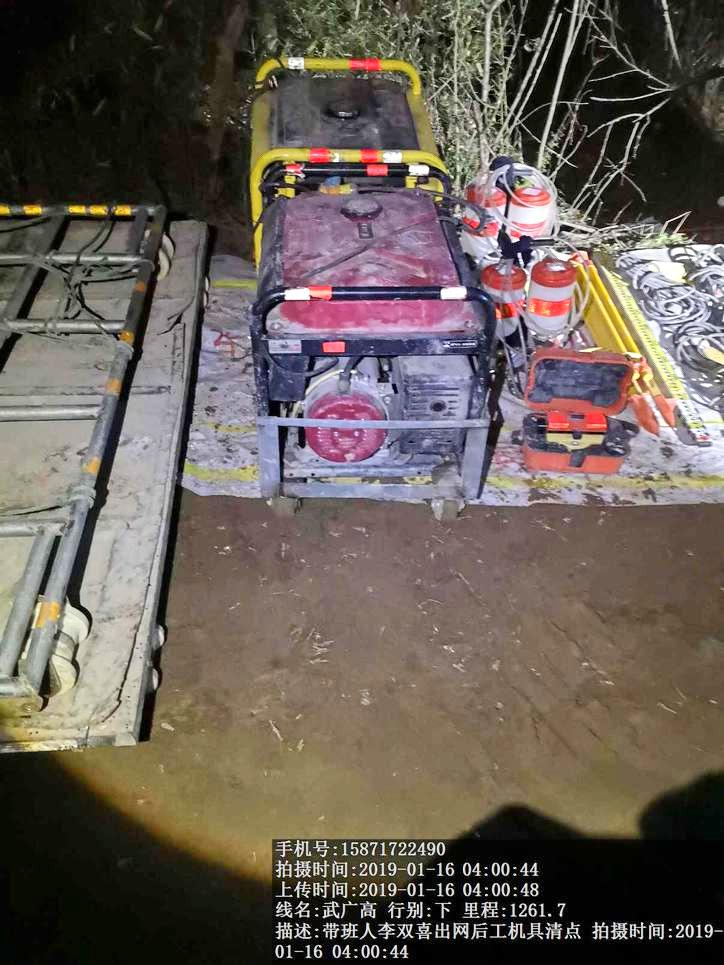DJ: (242, 180, 489, 513), (231, 42, 471, 174)
